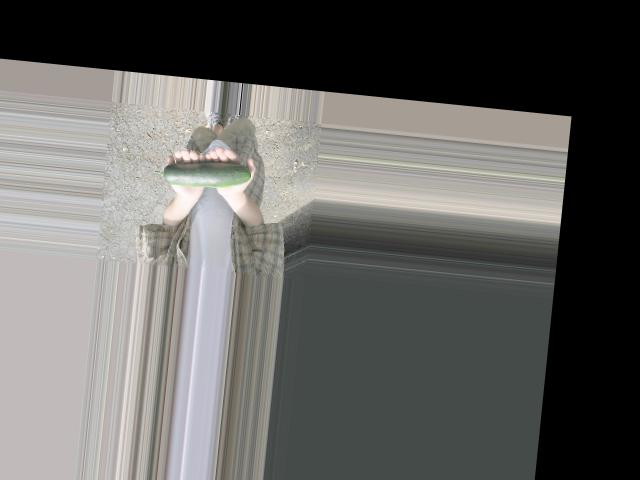cucumber: (151, 154, 251, 192)
